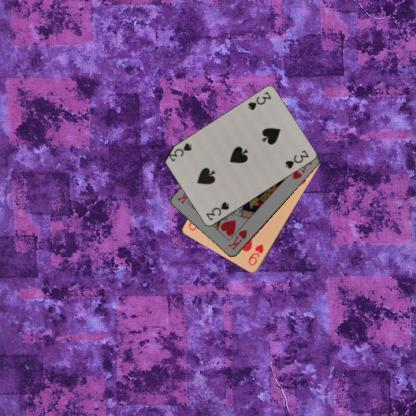3s: (204, 199, 231, 222), (245, 89, 272, 112)
9h: (246, 242, 264, 266)
Kh: (226, 228, 248, 252)
